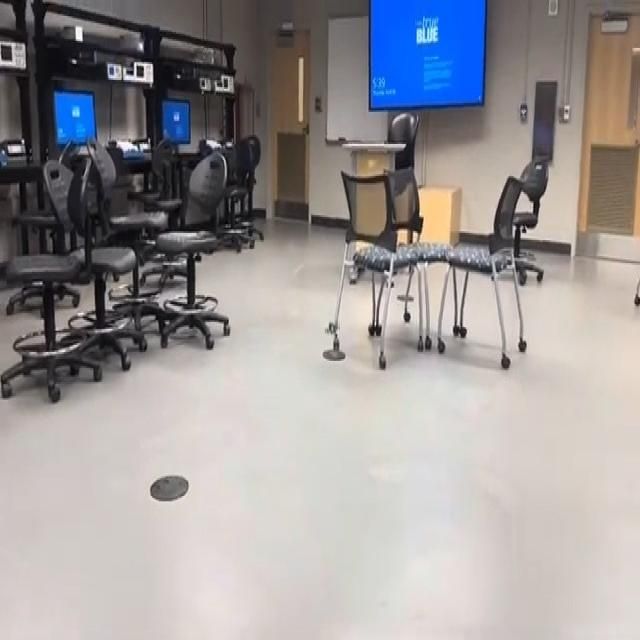drone: (319, 309, 344, 342)
